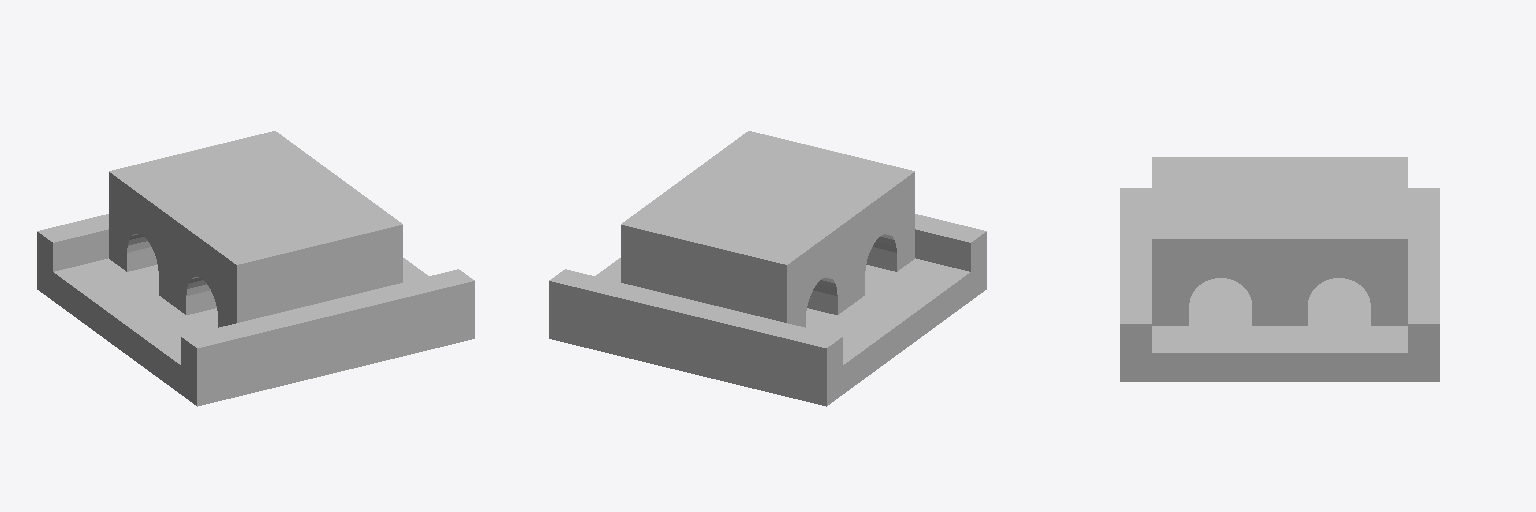
File: mtunnel.obj
The picture shows the model from 3 angles: view 1: azimuth 30°, elevation 25°; view 2: azimuth 150°, elevation 25°; view 3: azimuth 270°, elevation 25°; orthographic projection.
Visible parts, largest first — view 1: mtunnel; view 2: mtunnel; view 3: mtunnel.
Boxes of the visible parts, x1,y1,x2,y2 form: mtunnel: [37, 131, 474, 406]; mtunnel: [549, 131, 986, 406]; mtunnel: [1120, 157, 1439, 381].
Size of the model in its own units: 10 by 4 by 10.